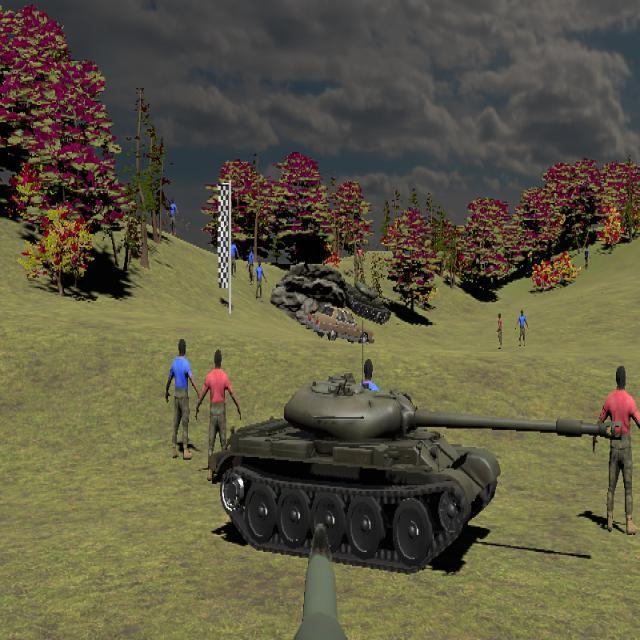Human: (594, 364, 640, 535), (196, 350, 241, 481), (166, 338, 201, 460)
Tank: (209, 373, 619, 572), (342, 281, 401, 325)
car: (310, 304, 374, 345)
